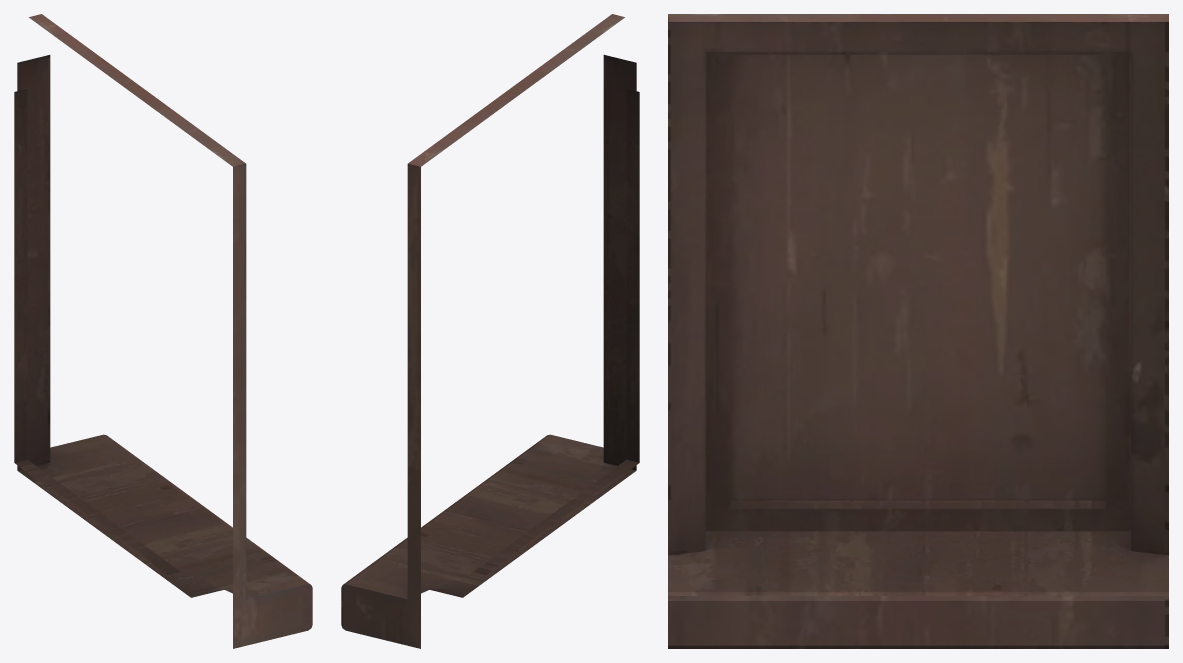
3 renders of one model, left to right at view 1: azimuth 30°, elevation 25°; view 2: azimuth 150°, elevation 25°; view 3: azimuth 270°, elevation 25°, orthographic. The views are drawn at different scales.
Visible parts, largest first — view 1: body0_model0_lod0_mesh0; view 2: body0_model0_lod0_mesh0; view 3: body0_model0_lod0_mesh0.
Part boxes in pixels (box(x1,y1,x2,y2)): body0_model0_lod0_mesh0: box(14, 14, 312, 648); body0_model0_lod0_mesh0: box(341, 14, 639, 648); body0_model0_lod0_mesh0: box(668, 14, 1168, 648).
Bounding box in the file's own units: 13.5 × 52 × 40.
1 material, 1 textured.
